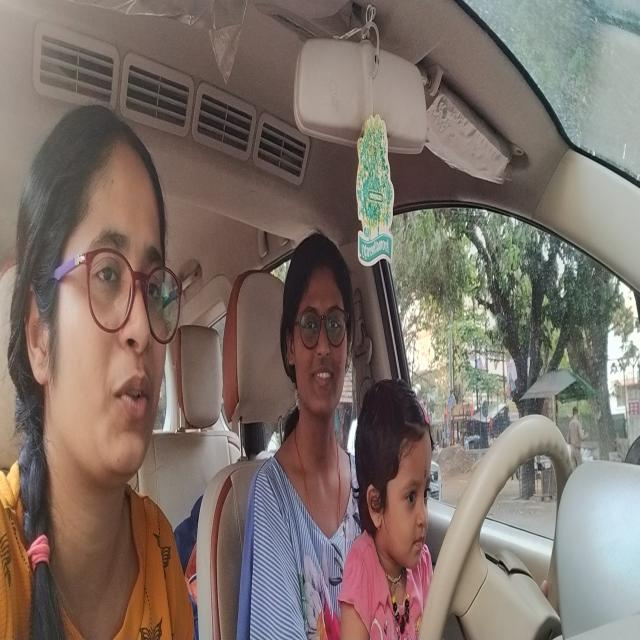child: (358, 382, 430, 570)
person: (48, 115, 172, 492), (286, 237, 350, 420)
